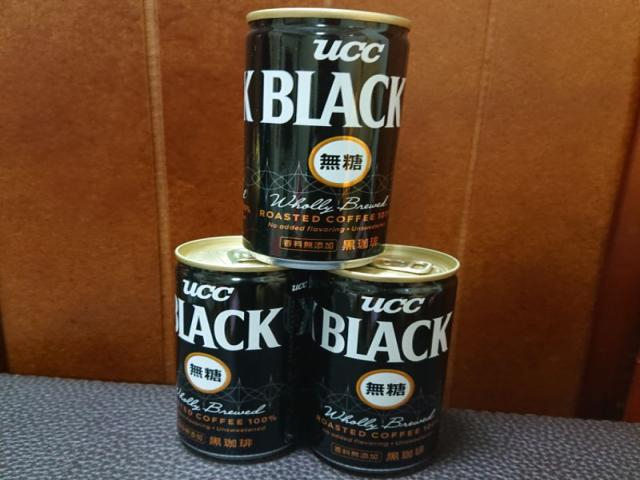Canned_drinks: (245, 9, 409, 268), (310, 245, 460, 473), (175, 236, 309, 459)
